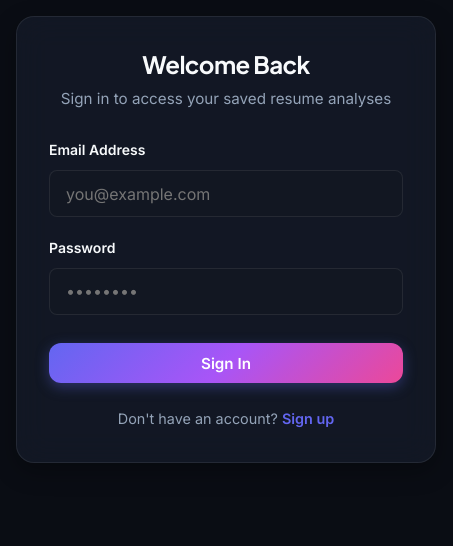
Scenario: Client Authentication Flow › Login Page › validates required fields before submitting
Click the button "Sign In": [226, 363] box [49, 343, 403, 383]
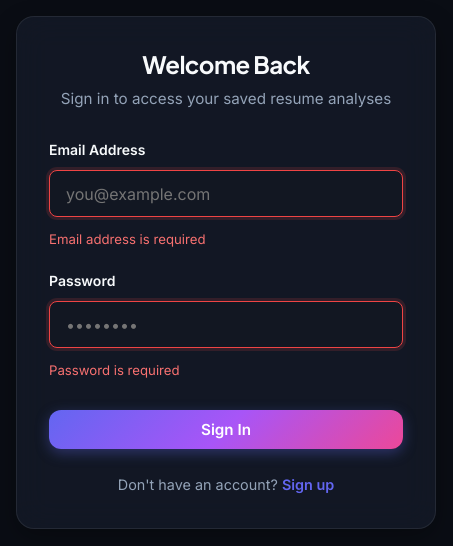
Result: the text "Email address is required" is shown at [49, 231, 206, 247]
Result: the text "Password is required" is shown at [49, 362, 180, 378]
